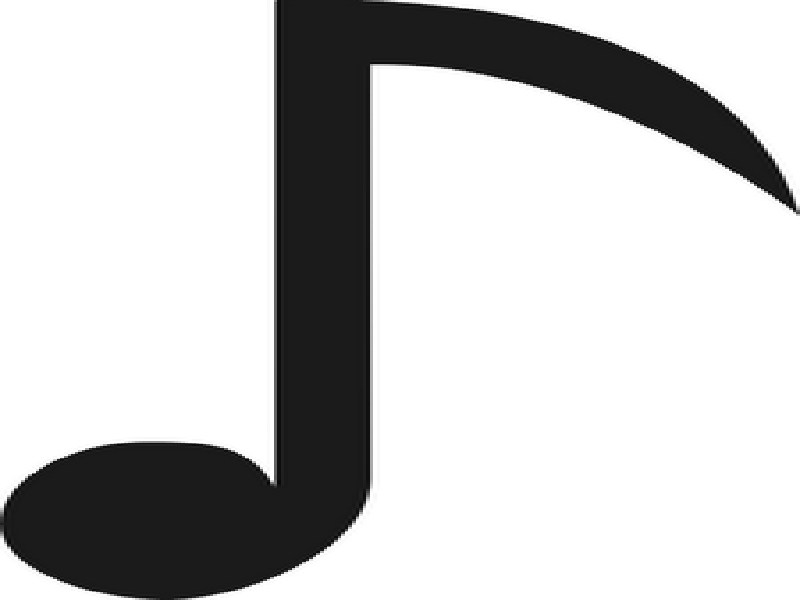C: (3, 1, 800, 596)
